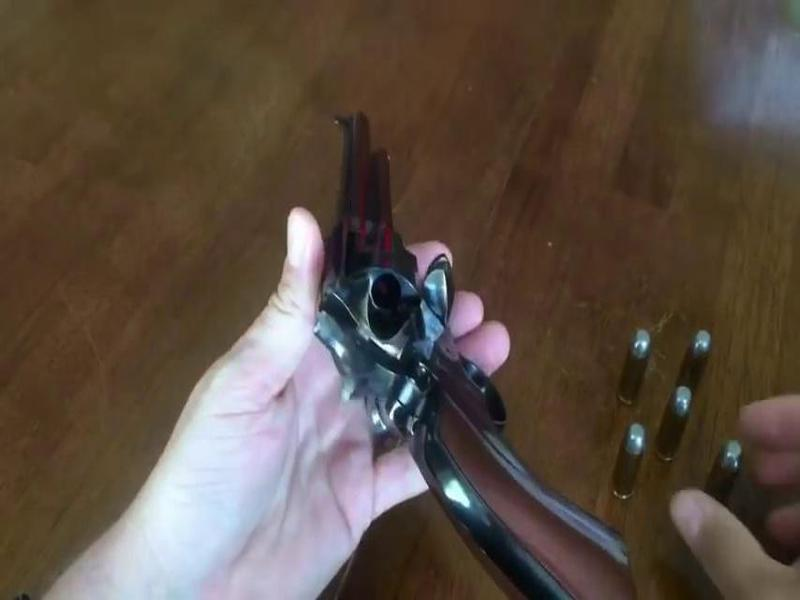Revolver: (264, 96, 597, 590)
